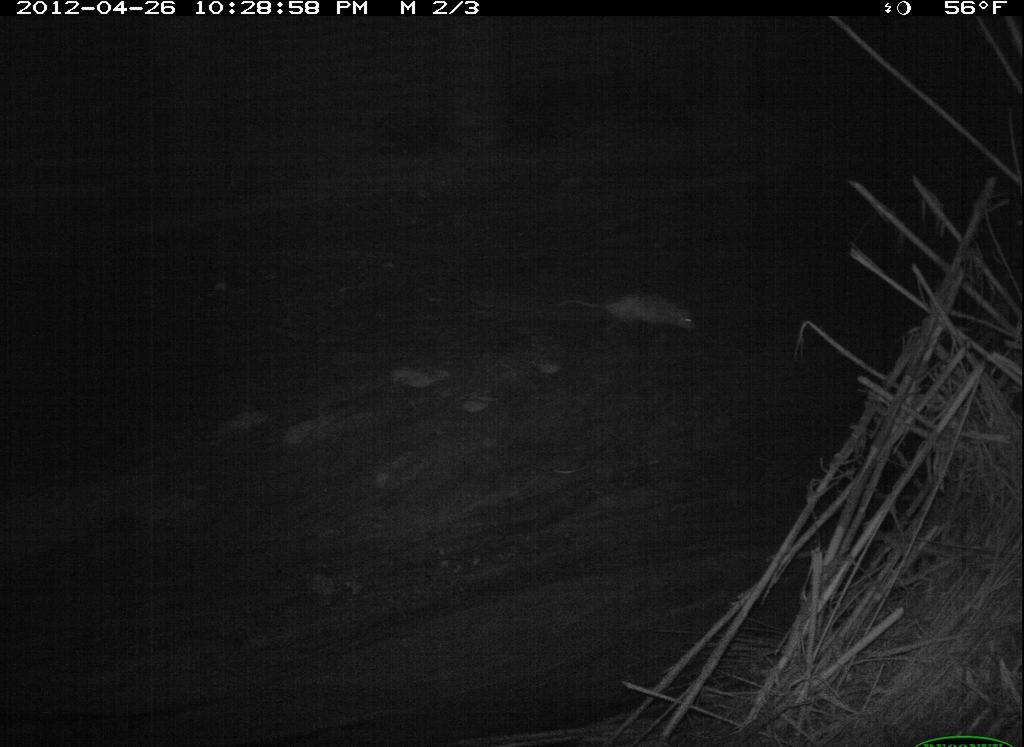opossum: (568, 277, 705, 341)
